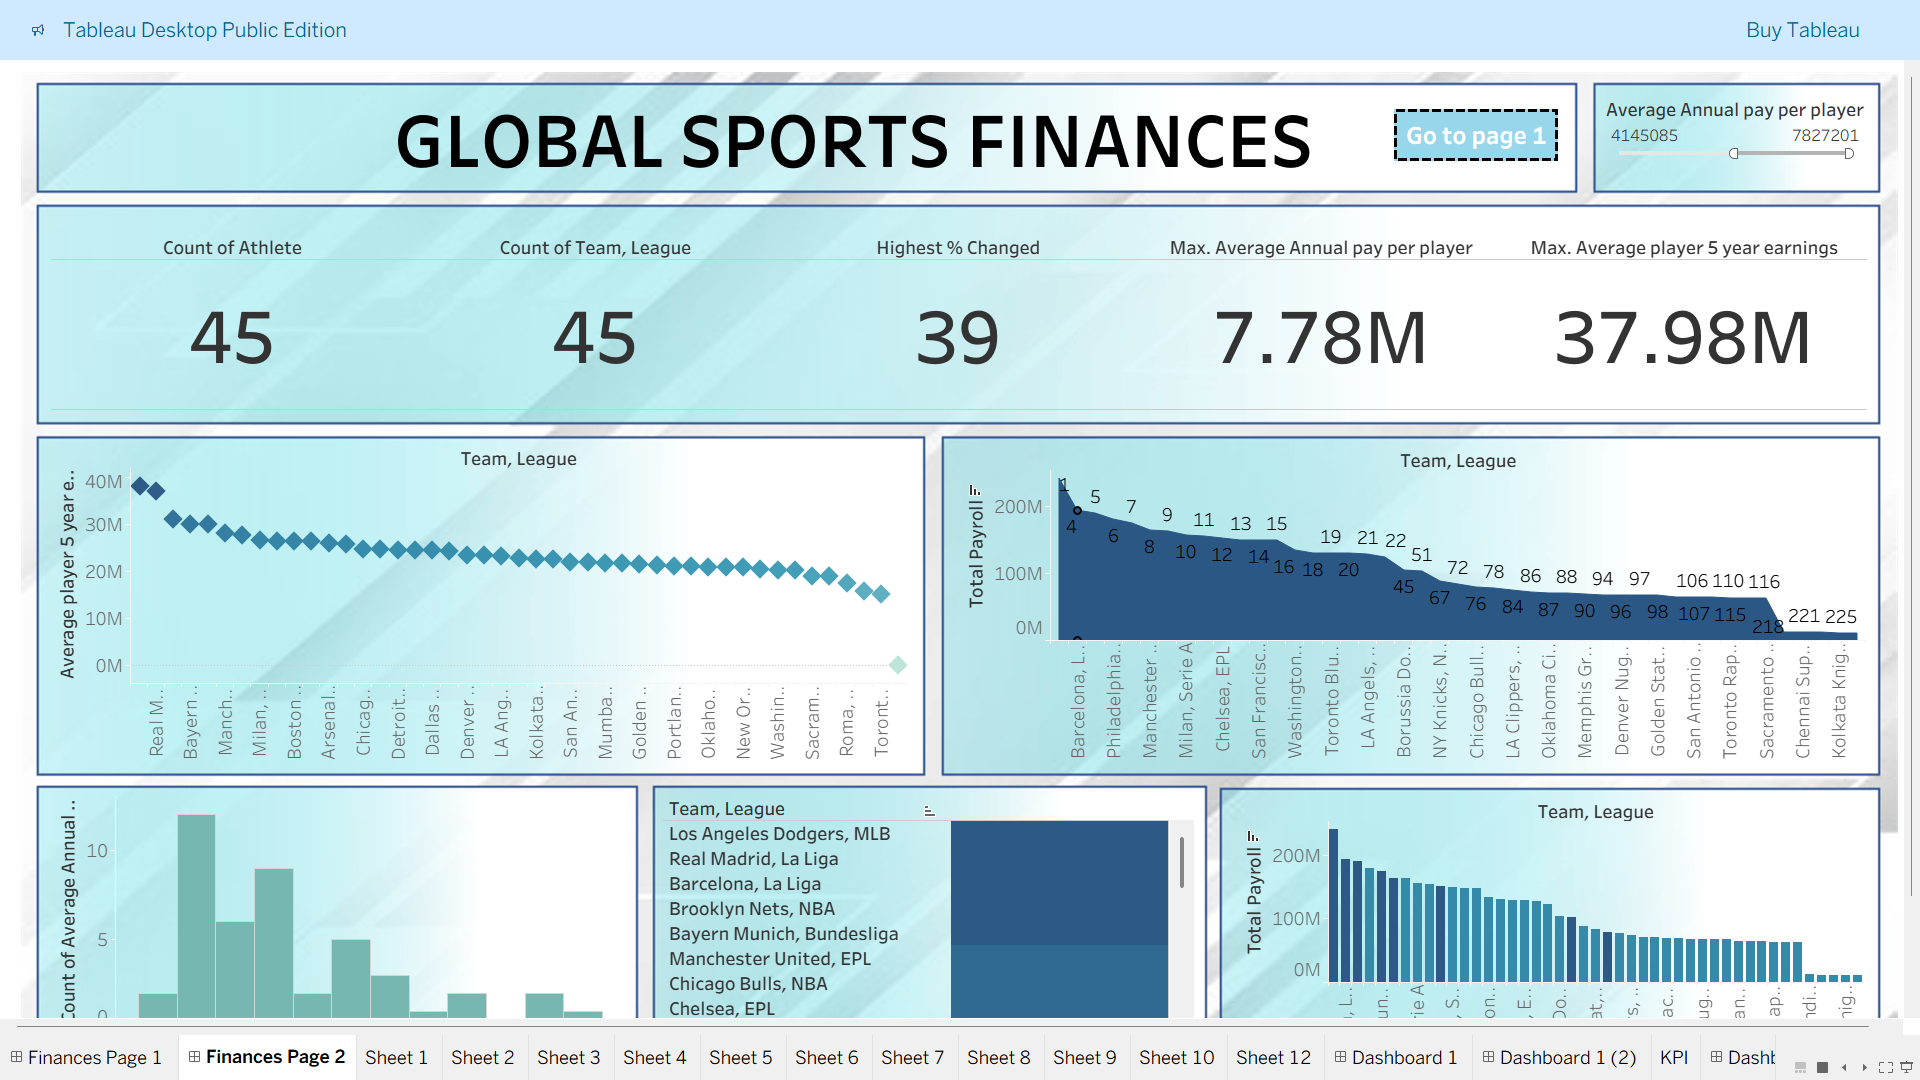

What the dashboard file says about the page in this screenshot:
{"tool":"tableau","page":{"name":"Finances Page 2","canvas":[1920,1080],"ordinal":4},"visuals":[{"type":"image","param":"Image/Tableau-project 2.png","box":[8,8,1904,1064]},{"type":"filter","title":"KPI","param":"[federated.1chhp6713ip89f1733oz61lpw94w].[none:Average Annual pay per player:qk]","box":[1606,36,260,85]},{"type":"text","box":[390,39,927,77]},{"type":"dashboard-object","box":[1394,49,164,52]},{"type":"worksheet","title":"KPI","mark":"Automatic","box":[51,159,1816,191]},{"type":"worksheet","title":"Sheet 3","mark":"Shape","rows":["Average player 5 year earnings"],"cols":["Team, League"],"box":[47,388,860,314]},{"type":"worksheet","title":"Sheet 7","mark":"Area","rows":["Total Payroll"],"cols":["Team, League"],"box":[956,390,910,310]},{"type":"worksheet","title":"Sheet 10","mark":"Automatic","rows":["Average Annual pay per player"],"cols":["Average Annual pay per player (bin)"],"box":[48,736,577,304]},{"type":"worksheet","title":"Sheet 12","mark":"Square","rows":["Team, League"],"box":[663,740,531,299]},{"type":"worksheet","title":"Sheet 6","mark":"Bar","rows":["Total Payroll"],"cols":["Team, League"],"box":[1234,741,629,301]}]}

Visuals, with their boxes on the page's 1920x1080 design canvas (x1, y1, x2, y2). These are canvas units, not pixel positions in the 1920x1080 screenshot, which may show the page scaled, cropped or inside an application window:
image: (8,8,1912,1072)
"KPI" filter: (1606,36,1866,121)
text: (390,39,1317,116)
dashboard-object: (1394,49,1558,101)
"KPI" worksheet: (51,159,1867,350)
"Sheet 3" worksheet (Shape marks): (47,388,907,702)
"Sheet 7" worksheet (Area marks): (956,390,1866,700)
"Sheet 10" worksheet: (48,736,625,1040)
"Sheet 12" worksheet (Square marks): (663,740,1194,1039)
"Sheet 6" worksheet (Bar marks): (1234,741,1863,1042)
